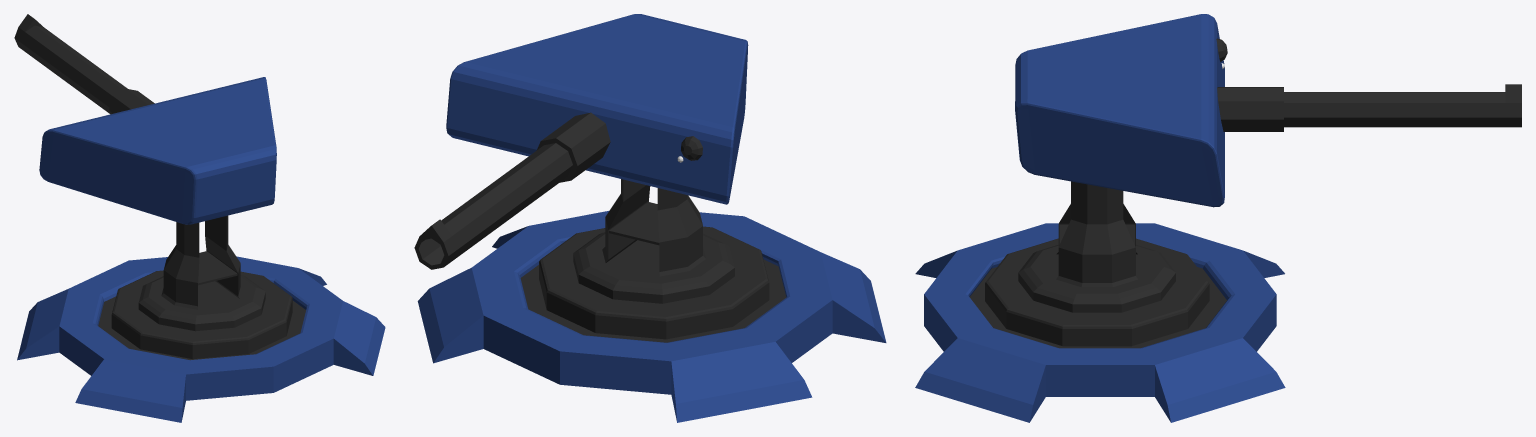
Rendered from singleTurretFinalUpgrade.fbx.
3 views of the same model, side by side, from view 1: azimuth 30°, elevation 25°; view 2: azimuth 150°, elevation 25°; view 3: azimuth 270°, elevation 25° (orthographic). The views are drawn at different scales.
Visible parts, largest first — view 1: FinalUpgradeTurret; view 2: FinalUpgradeTurret; view 3: FinalUpgradeTurret.
Boxes of the visible parts, <box> form: FinalUpgradeTurret: <box>14,14,385,422</box>; FinalUpgradeTurret: <box>414,14,886,422</box>; FinalUpgradeTurret: <box>915,14,1521,422</box>.
Bounding box in the file's own units: 61.77 × 39.88 × 86.05.
